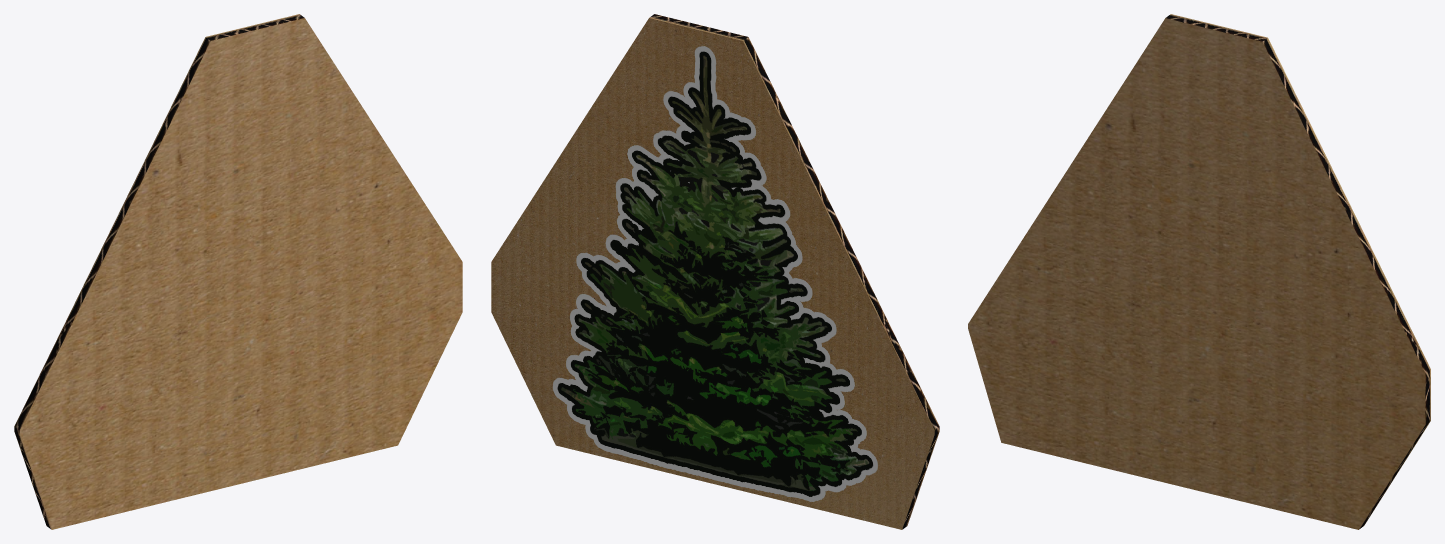
File: Cardboard-Tree022.FBX
The picture shows the model from 3 angles, left to right: view 1: azimuth 30°, elevation 25°; view 2: azimuth 150°, elevation 25°; view 3: azimuth 330°, elevation 25°; orthographic projection. The views are drawn at different scales.
Parts seen in each view (by area): view 1: Box001; view 2: Box001; view 3: Box001.
Part boxes in pixels (x1,y1,x2,y2): Box001: [14, 14, 462, 529]; Box001: [491, 14, 939, 529]; Box001: [968, 14, 1430, 529].
Bounding box in the file's own units: 153 × 148 × 3.24.
Materials: 1 (1 with a texture image).
